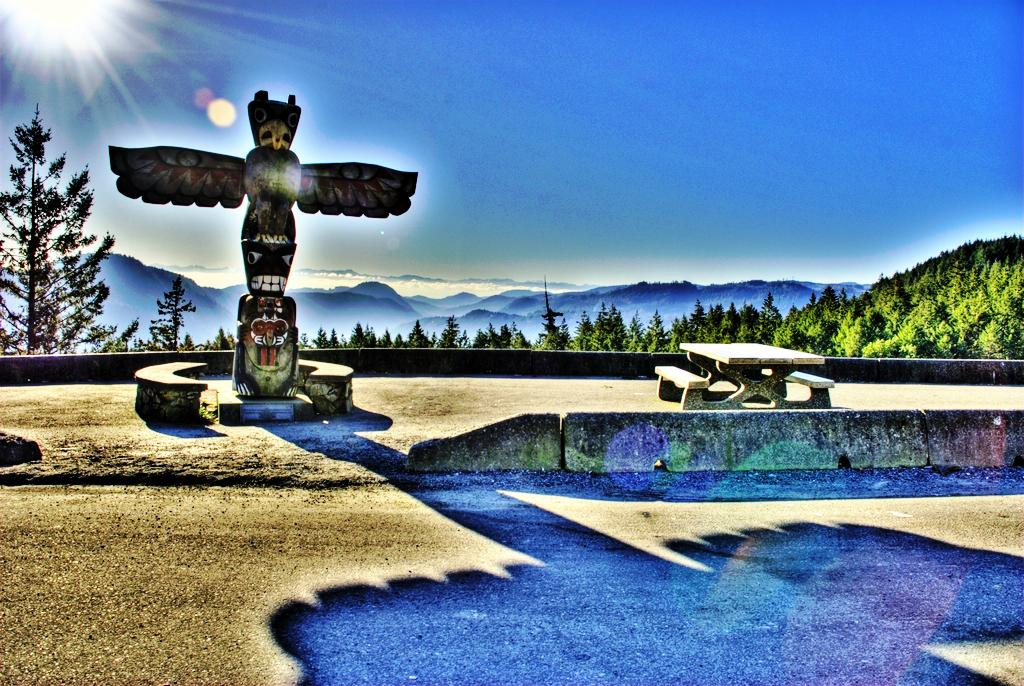Owl: (104, 92, 422, 248)
